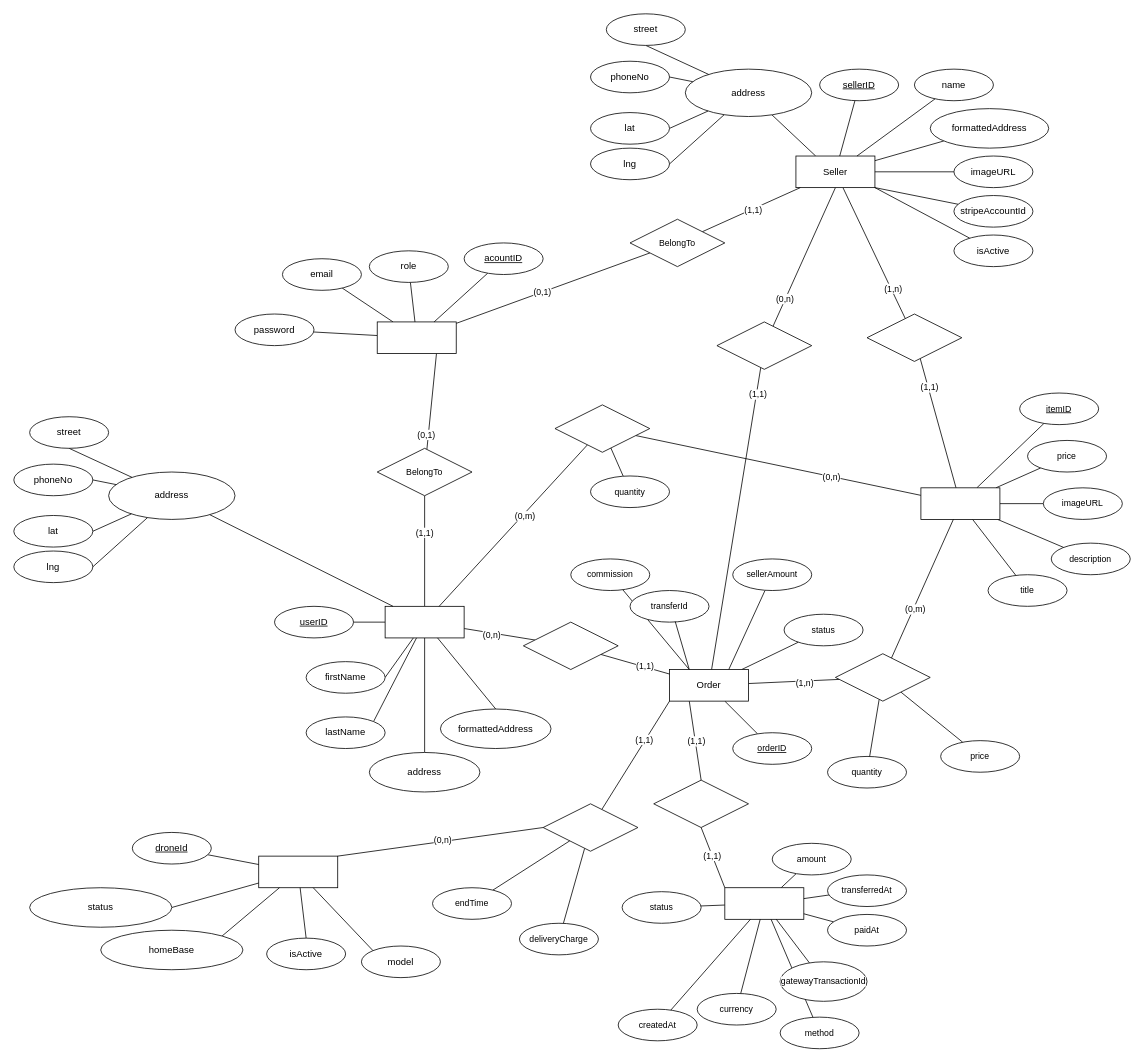
This 1145x1063 diagram has some shape labels left out. The shapes that lost their labels are listed below. From the top down, each one's centre as x and y in pixels, then its label:
At (416,337): "Account".
At (764,345): "Receive".
At (914,337): "Create".
At (602,428): "HasCartContent".
At (960,503): "Item".
At (424,622): "User".
At (570,645): "Place".
At (882,677): "HasContent".
At (701,803): "PayWith".
At (590,827): "Deliver".
At (298,871): "Drone".
At (764,903): "Payment".
